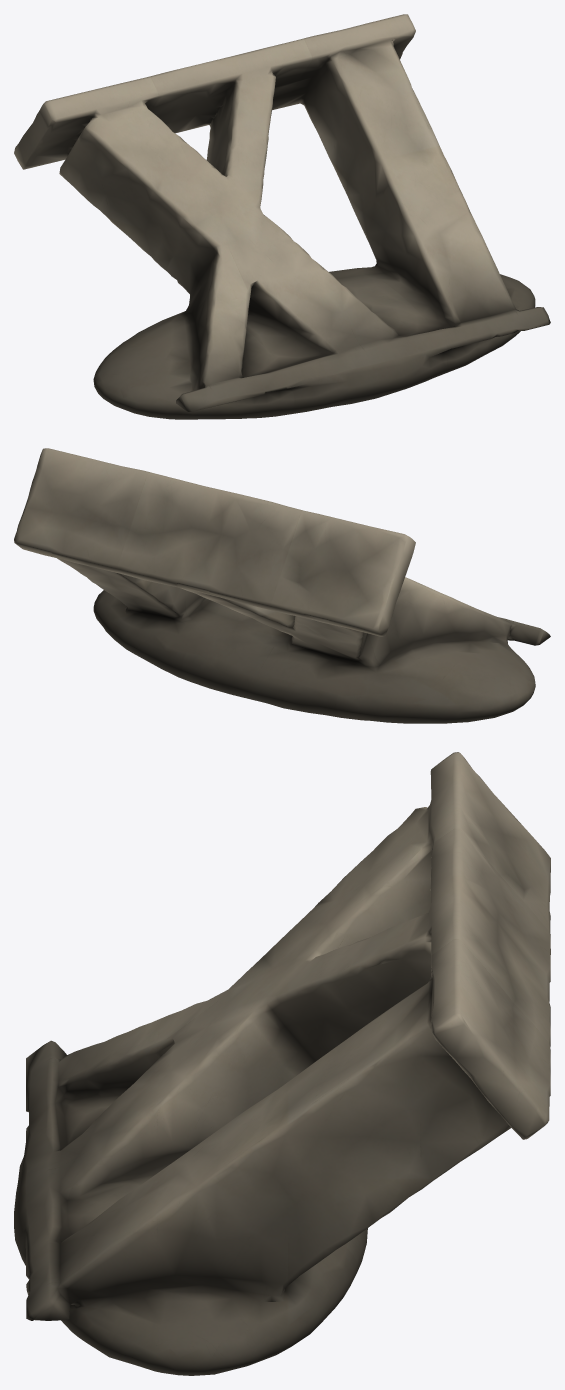
File: numeral_xi.glb
3 views of the same model, one above another, from view 1: azimuth 30°, elevation 25°; view 2: azimuth 150°, elevation 25°; view 3: azimuth 270°, elevation 25° (orthographic). The views are drawn at different scales.
Visible parts, largest first — view 1: numeral_xi_stone; view 2: numeral_xi_stone; view 3: numeral_xi_stone.
Part boxes in pixels (bbox=[...]): numeral_xi_stone: bbox=[14, 14, 550, 419]; numeral_xi_stone: bbox=[14, 448, 550, 723]; numeral_xi_stone: bbox=[14, 752, 550, 1375].
Bounding box in the file's own units: 6.11 × 3.55 × 4.47.
1 material, 1 textured.
